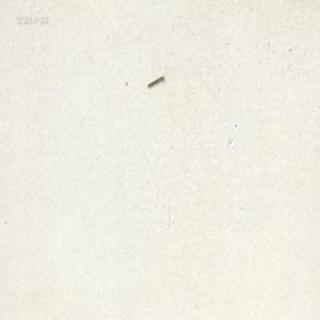Bolttrack_idkeyframe: (146, 74, 163, 86)
